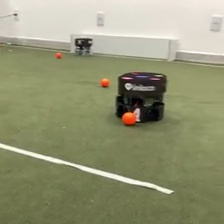ball: (120, 109, 138, 127), (99, 75, 110, 87), (55, 50, 63, 58)
goal: (68, 32, 179, 63)
robot: (113, 69, 168, 124), (73, 35, 94, 57)
